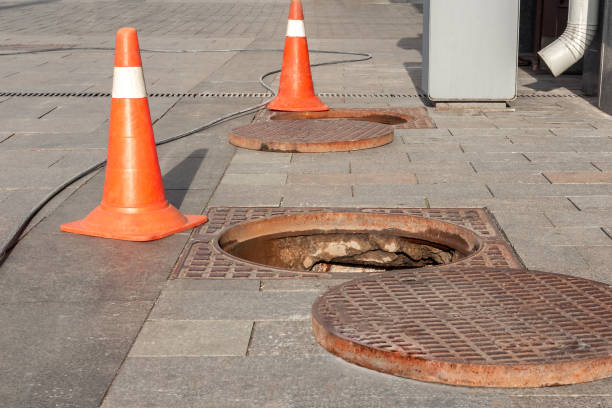open_manhole: (213, 214, 491, 275)
